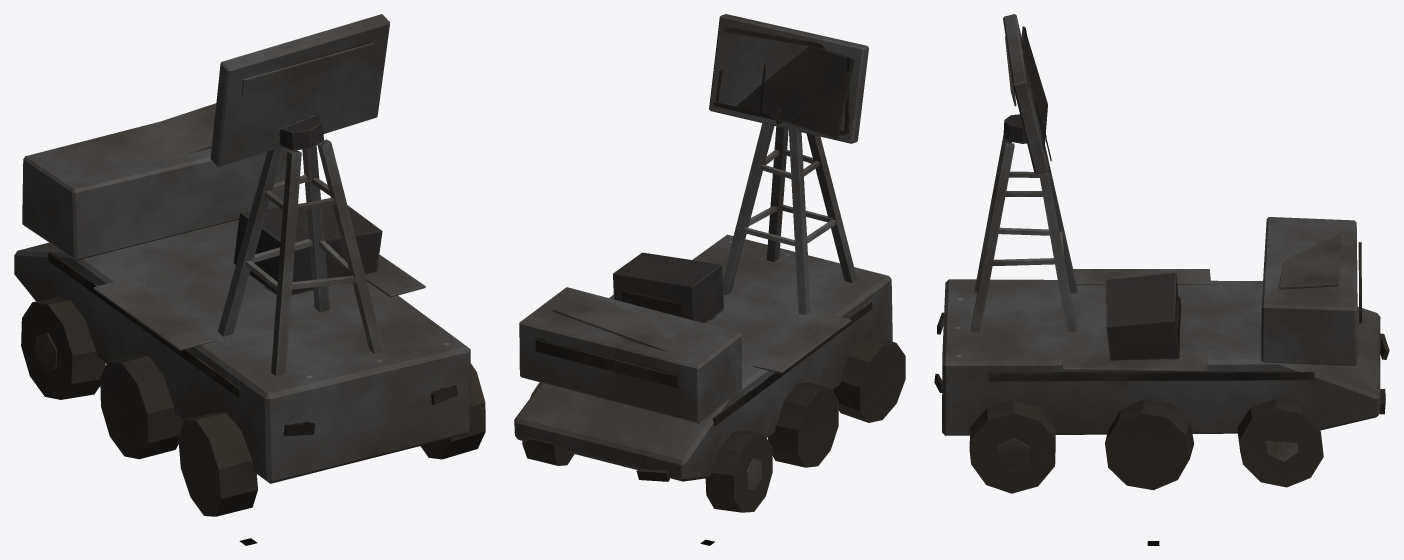
Rendered from chs_stalker_wreck.fbx.
3 renders of one model, left to right at view 1: azimuth 30°, elevation 25°; view 2: azimuth 150°, elevation 25°; view 3: azimuth 270°, elevation 25°, orthographic. The views are drawn at different scales.
Visible parts, largest first — view 1: base_bar, dish_bar, wheelL2_bar, wheelL1_bar, wheelL3_bar, wheelR3_bar; view 2: base_bar, dish_bar, wheelL3_bar, wheelL2_bar, wheelL1_bar, wheelR1_bar; view 3: base_bar, wheelR3_bar, wheelR2_bar, wheelR1_bar, dish_bar.
Part boxes in pixels (x1,y1,x2,y2): base_bar: [14, 103, 470, 483]; dish_bar: [210, 14, 390, 166]; wheelL2_bar: [100, 354, 183, 459]; wheelL1_bar: [21, 298, 105, 399]; wheelL3_bar: [178, 412, 257, 516]; wheelR3_bar: [420, 363, 485, 459]; base_bar: [514, 122, 892, 481]; dish_bar: [709, 14, 868, 143]; wheelL3_bar: [832, 334, 905, 422]; wheelL2_bar: [768, 382, 838, 467]; wheelL1_bar: [705, 431, 772, 512]; wheelR1_bar: [522, 382, 574, 465]; base_bar: [934, 135, 1389, 435]; wheelR3_bar: [969, 400, 1055, 493]; wheelR2_bar: [1105, 399, 1193, 490]; wheelR1_bar: [1237, 399, 1323, 487]; dish_bar: [1003, 14, 1051, 174].
Size of the model in its own units: 459 by 922 by 781.
2 materials, 2 textured.
